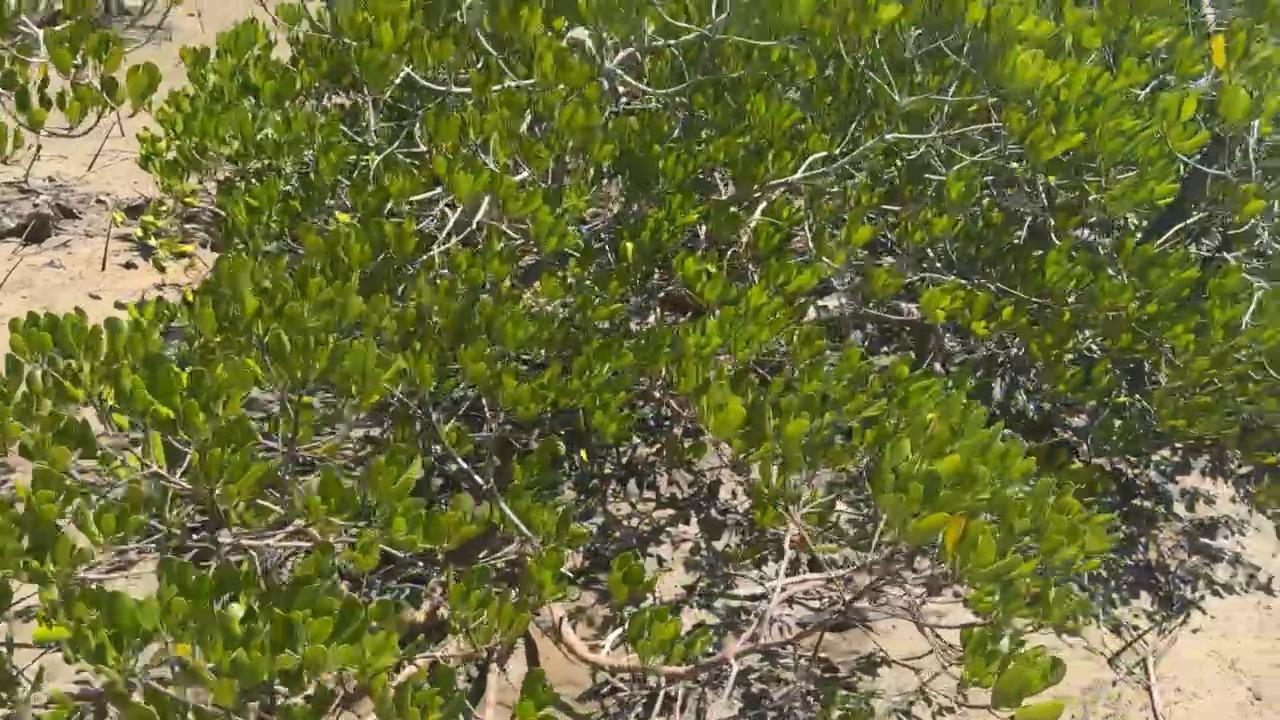Tree: (1106, 617, 1171, 666), (87, 122, 116, 173), (0, 257, 25, 290), (101, 218, 113, 273), (24, 146, 39, 181), (115, 111, 126, 139)
